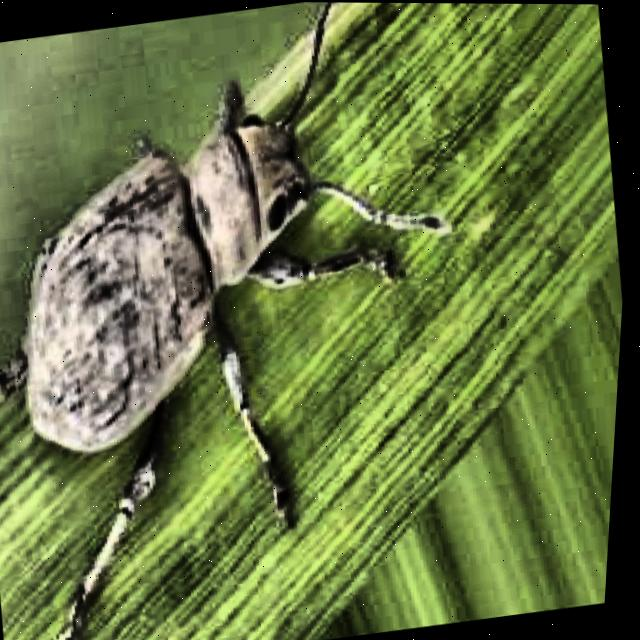Stink bug: (0, 63, 492, 526)
